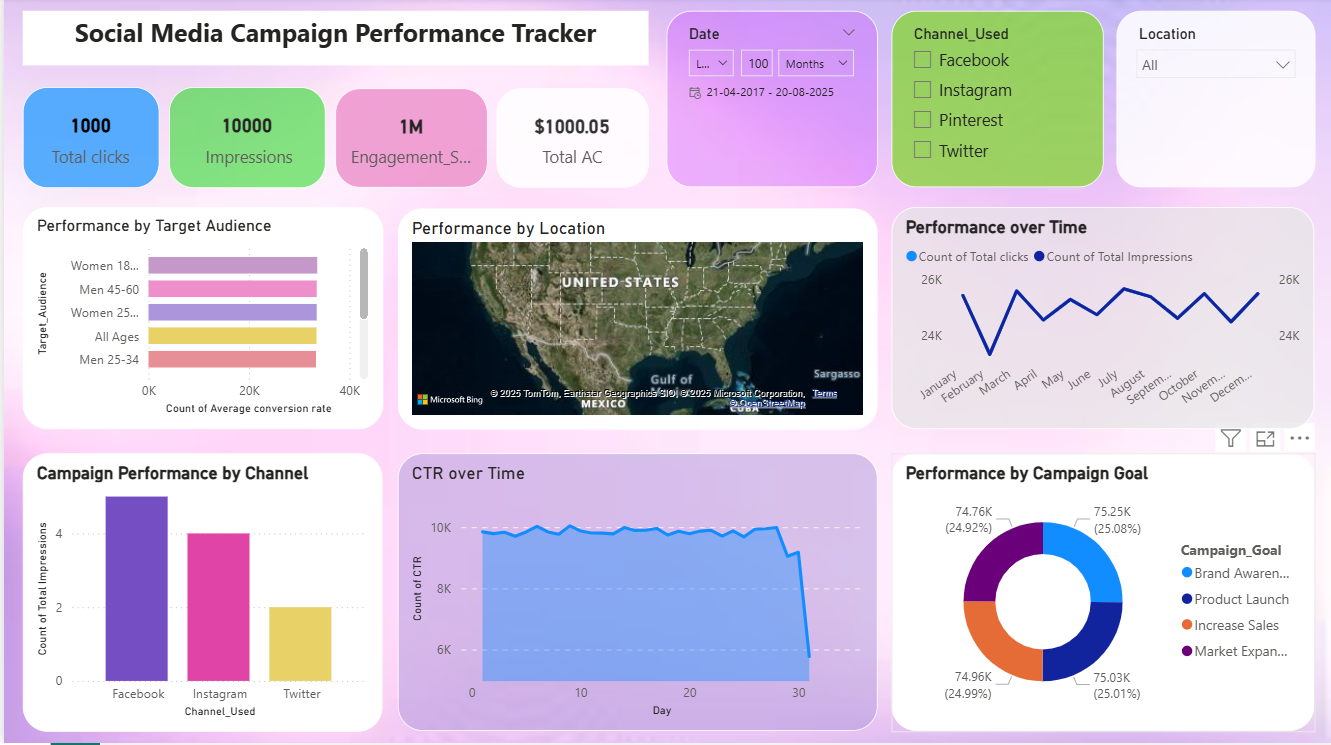

This screenshot's page, from the dashboard's own definition file:
{"tool":"powerbi","page":{"name":"Page 1","canvas":[1280,720],"ordinal":0},"visuals":[{"type":"columnChart","title":"Campaign Performance by Channel","fields":{"Category":["social media campaign.Channel_Used"],"Y":["CountNonNull(social media campaign.Total Impressions)"]},"box":[17.8,440.5,347.2,269],"z":0},{"type":"donutChart","title":" Performance by Campaign Goal","fields":{"Category":["social media campaign.Campaign_Goal"],"Y":["CountNonNull(social media campaign.Total acquisition cost)"]},"box":[857.1,440.7,408.3,268.2],"z":1000},{"type":"lineChart","title":"Performance over Time","fields":{"Category":["social media campaign.Date.Variation.Date Hierarchy.Month"],"Y":["CountNonNull(social media campaign.Total clicks)"],"Y2":["CountNonNull(social media campaign.Total Impressions)"]},"box":[857.1,202.1,408.3,214.3],"z":2000},{"type":"filledMap","title":"Performance by Location","fields":{"Category":["social media campaign.Location"]},"box":[380,203.9,463.3,213.5],"z":3000},{"type":"barChart","title":"Performance by  Target Audience","fields":{"Category":["social media campaign.Target_Audience"],"Y":["CountNonNull(social media campaign.Average conversion rate)"]},"box":[18.1,203.9,347.5,213.5],"z":4000},{"type":"slicer","fields":{"Values":["social media campaign.Date"]},"box":[639.4,13.3,203.9,170.1],"z":5000},{"type":"slicer","fields":{"Values":["social media campaign.Location"]},"box":[1073.7,13.3,191.8,170.1],"z":6000},{"type":"card","fields":{"Values":["Min(social media campaign.Total clicks)"]},"box":[17.8,86.4,131.7,97.4],"z":7000},{"type":"card","fields":{"Values":["Min(social media campaign.Total Impressions)"]},"box":[159.2,86.4,150.9,97.4],"z":8000},{"type":"card","fields":{"Values":["Min(social media campaign.Total acquisition cost)"]},"box":[475.3,89.3,146,95.3],"z":9000},{"type":"areaChart","title":"CTR over Time","fields":{"Y":["CountNonNull(social media campaign.CTR)"],"Category":["social media campaign.Date.Variation.Date Hierarchy.Day"]},"box":[380,440.7,463.6,268.2],"z":10000},{"type":"textbox","box":[17.5,13.5,603.8,52.6],"z":11000},{"type":"slicer","fields":{"Values":["social media campaign.Channel_Used"]},"box":[856.6,13.3,205.1,170.1],"z":12000},{"type":"card","fields":{"Values":["Sum(social media campaign.Engagement_Score)"]},"box":[319.7,87.8,146.8,96.1],"z":13000}]}

Visuals, with their boxes in screenshot pixels (x1, y1, x2, y2), scaled from the page's 1280x720 canvas onto the 1331x745 screenshot:
"Campaign Performance by Channel" columnChart: (19,456,380,734)
" Performance by Campaign Goal" donutChart: (891,456,1316,734)
"Performance over Time" lineChart: (891,209,1316,431)
"Performance by Location" filledMap: (395,211,877,432)
"Performance by  Target Audience" barChart: (19,211,380,432)
slicer - social media campaign.Date: (665,14,877,190)
slicer - social media campaign.Location: (1116,14,1316,190)
card - Min(social media campaign.Total clicks): (19,89,155,190)
card - Min(social media campaign.Total Impressions): (166,89,322,190)
card - Min(social media campaign.Total acquisition cost): (494,92,646,191)
"CTR over Time" areaChart: (395,456,877,734)
textbox: (18,14,646,68)
slicer - social media campaign.Channel_Used: (891,14,1104,190)
card - Sum(social media campaign.Engagement_Score): (332,91,485,190)
